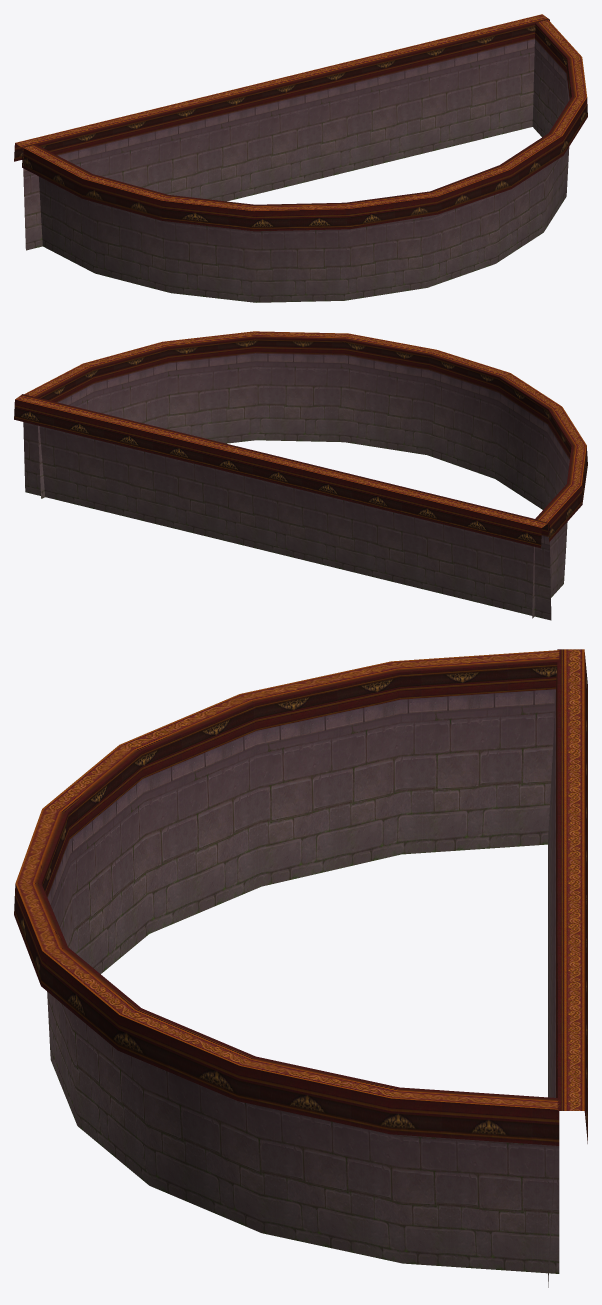
Rendered from fb_baitang_chizi.FBX.
3 renders of one model, top to bottom at view 1: azimuth 30°, elevation 25°; view 2: azimuth 150°, elevation 25°; view 3: azimuth 270°, elevation 25°, orthographic. The views are drawn at different scales.
Visible parts, largest first — view 1: fb_baitang_chizi; view 2: fb_baitang_chizi; view 3: fb_baitang_chizi.
Boxes of the visible parts, bbox=[...] form: fb_baitang_chizi: bbox=[14, 14, 587, 302]; fb_baitang_chizi: bbox=[14, 331, 587, 620]; fb_baitang_chizi: bbox=[14, 649, 587, 1287].
Size of the model in its own units: 2746 by 499 by 1442.
